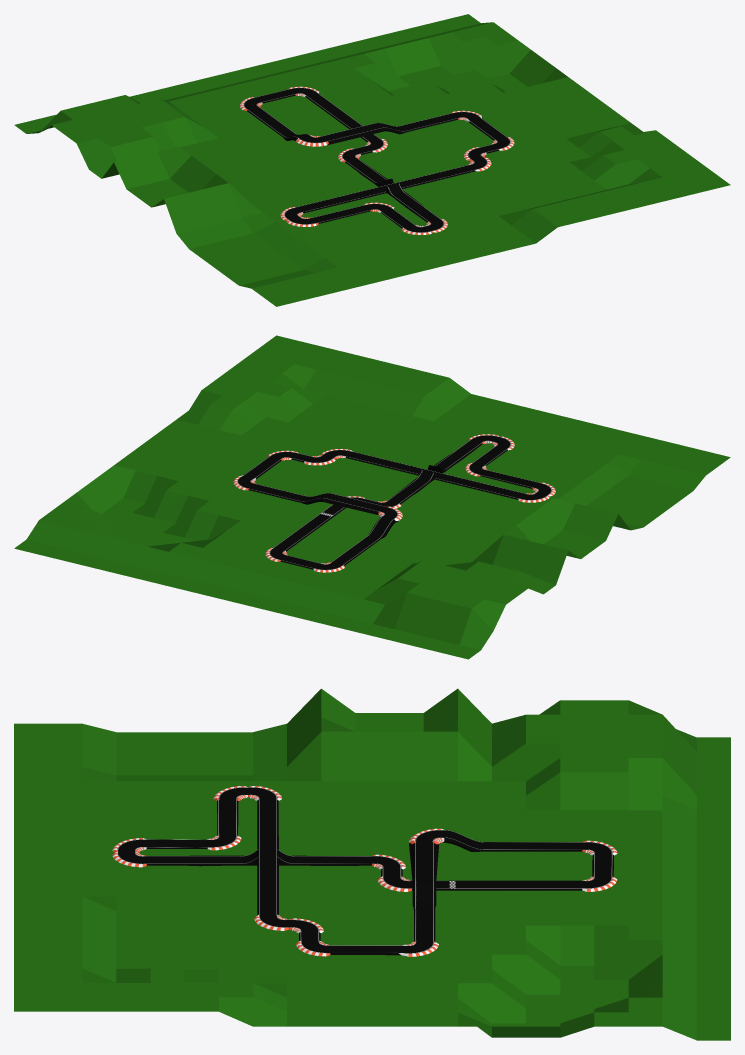
Rendered from trackBasic.fbx.
3 renders of one model, top to bottom at view 1: azimuth 30°, elevation 25°; view 2: azimuth 150°, elevation 25°; view 3: azimuth 270°, elevation 25°, orthographic. The views are drawn at different scales.
Parts seen in each view (by area): view 1: Terrain, Straight.009, Straight.015, Straight.006, Straight.012, Straight.013; view 2: Terrain, Straight.009, Straight.015; view 3: Terrain, Straight.009, Straight.015, Overhang.001, Straight.006, Straight.013, Straight.012, Straight.004, Straight.008, Straight.011, Straight.010, Straight.007 (+1 smaller).
Part boxes in pixels (x1,y1,x2,y2): Terrain: [14, 14, 730, 306]; Straight.009: [296, 165, 475, 213]; Straight.015: [305, 93, 362, 129]; Straight.006: [393, 193, 439, 222]; Straight.012: [322, 123, 381, 143]; Straight.013: [247, 107, 292, 135]; Terrain: [14, 335, 730, 659]; Straight.009: [345, 451, 524, 499]; Straight.015: [274, 514, 332, 551]; Terrain: [14, 688, 730, 1040]; Straight.009: [257, 799, 278, 915]; Straight.015: [455, 880, 581, 890]; Overhang.001: [409, 843, 439, 910]; Straight.006: [147, 855, 239, 866]; Straight.013: [489, 842, 581, 851]; Straight.012: [412, 843, 436, 879]; Straight.004: [294, 855, 371, 865]; Straight.008: [217, 800, 238, 835]; Straight.011: [414, 909, 435, 941]; Straight.010: [330, 945, 400, 955]; Straight.007: [146, 839, 207, 848].
Size of the model in its own units: 610 by 57 by 610.
Materials: 6 (6 with a texture image).
